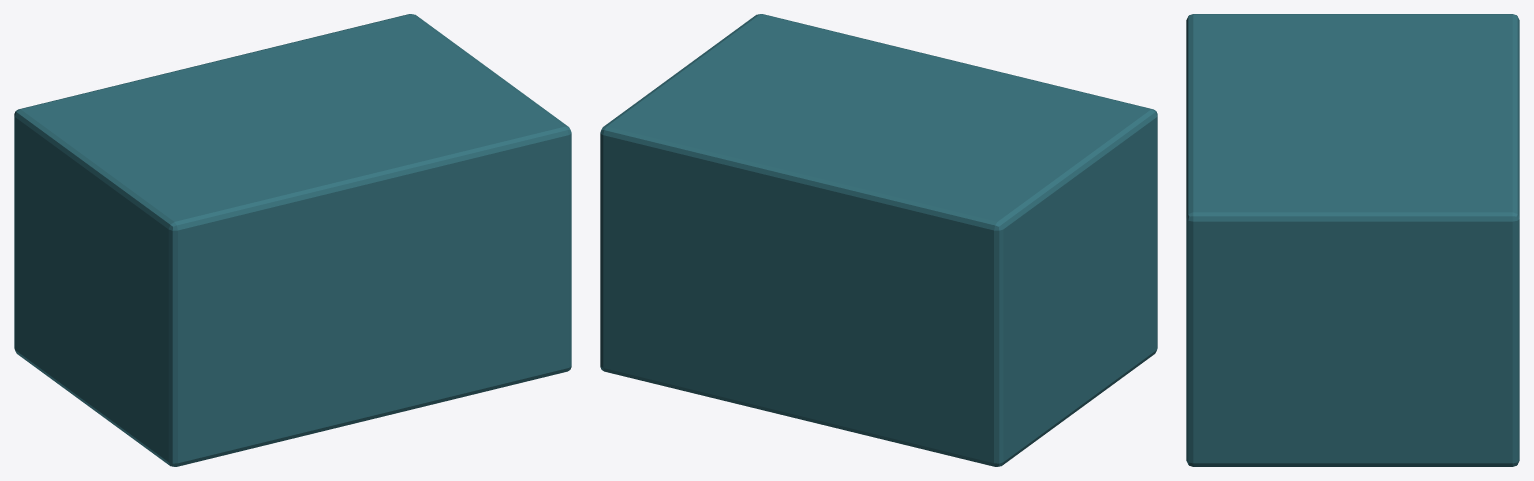
File: ReturnTray.fbx
The picture shows the model from 3 angles, left to right: view 1: azimuth 30°, elevation 25°; view 2: azimuth 150°, elevation 25°; view 3: azimuth 270°, elevation 25°; orthographic projection. The views are drawn at different scales.
Visible parts, largest first — view 1: Crate; view 2: Crate; view 3: Crate.
Boxes of the visible parts, box(x1,y1,x2,y2) form: Crate: box(14, 14, 571, 466); Crate: box(600, 14, 1157, 466); Crate: box(1186, 14, 1519, 466).
Size of the model in its own units: 55 by 32 by 38.
